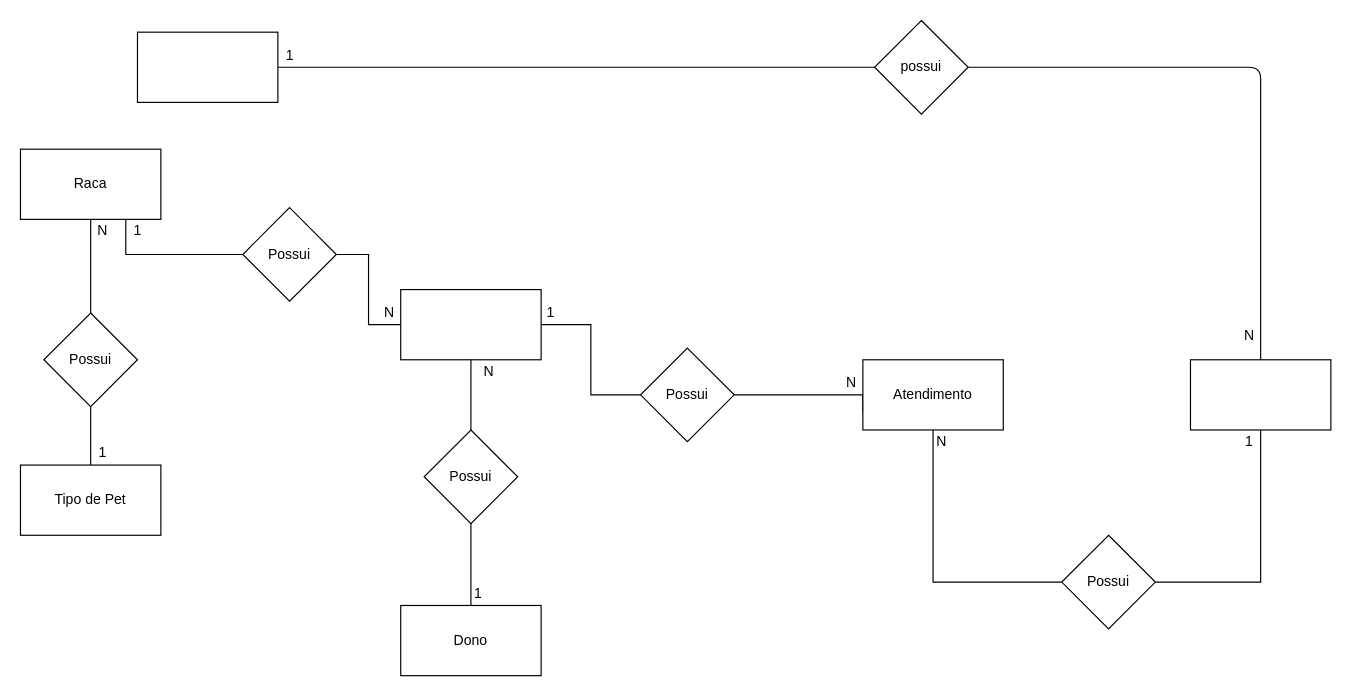
Some shapes in this 1351 by 696 pixel diagram are drawn without their labels. Here are the shapes that lost their labels. From the top down, the centre of each, then its label:
the point at 207,66: Clinica
the point at 470,324: Pet
the point at 1260,394: Veterinario
